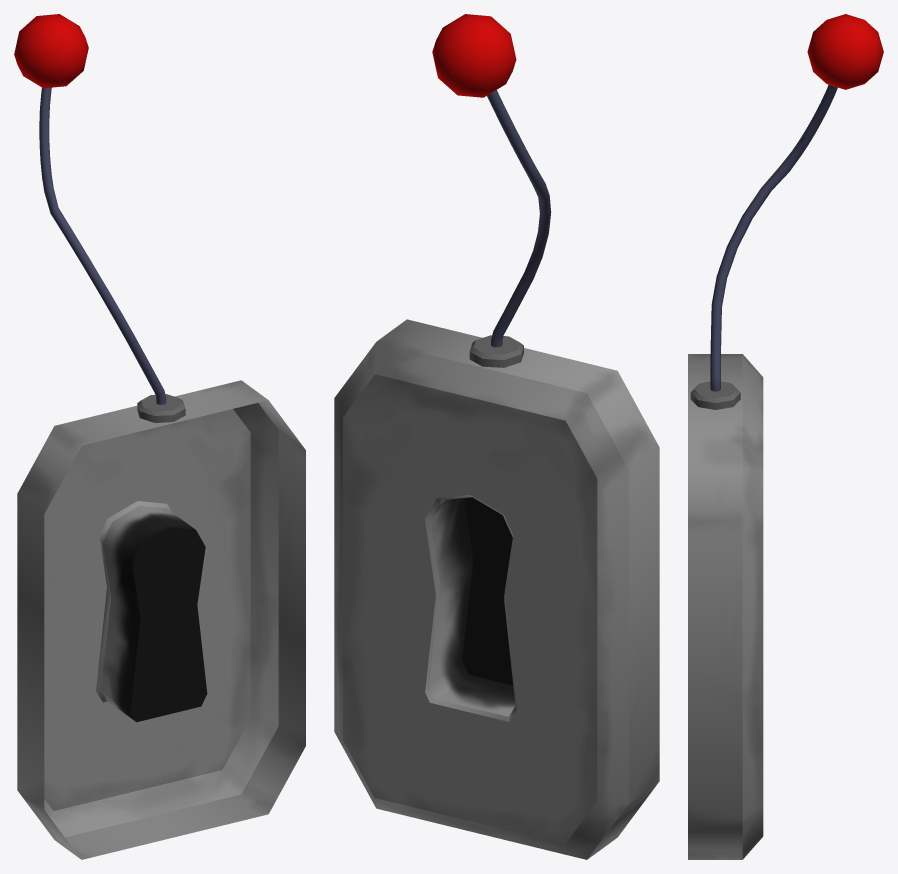
The model's file is KeyHole.fbx.
3 views of the same model, side by side, from view 1: azimuth 30°, elevation 25°; view 2: azimuth 150°, elevation 25°; view 3: azimuth 270°, elevation 25° (orthographic). The views are drawn at different scales.
Parts seen in each view (by area): view 1: KeyHole; view 2: KeyHole; view 3: KeyHole.
Boxes of the visible parts, x1,y1,x2,y2 form: KeyHole: [14, 14, 305, 859]; KeyHole: [334, 14, 659, 859]; KeyHole: [688, 14, 883, 859].
Size of the model in its own units: 10 by 28.3 by 6.48.
Materials: 2 (1 with a texture image).
